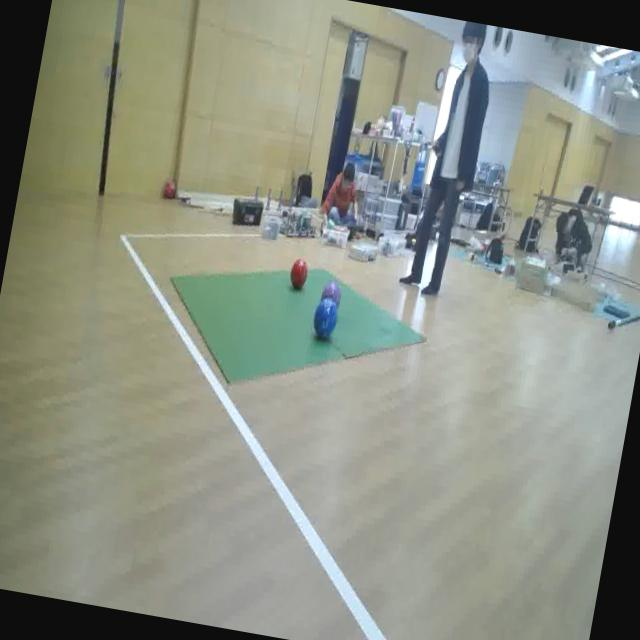blue_ball: (311, 298, 339, 339)
purple_ball: (321, 278, 344, 308)
red_ball: (289, 256, 309, 288)
